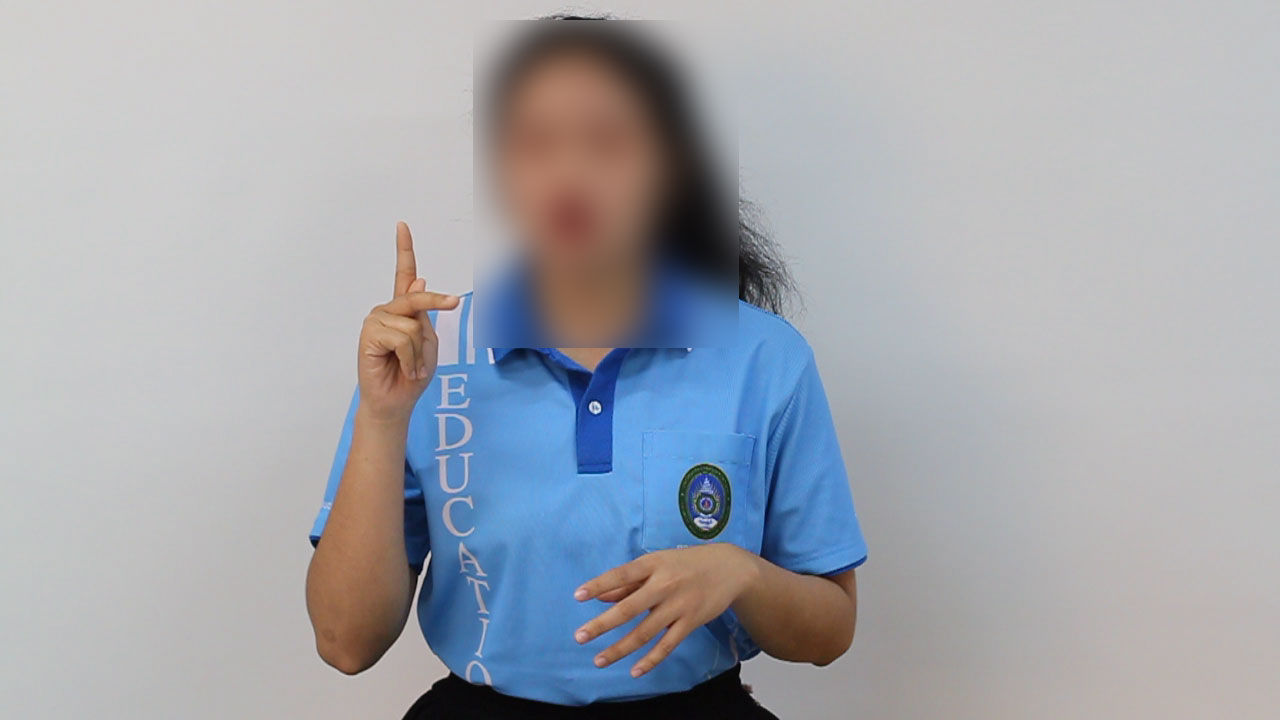ko: (308, 216, 495, 431)
